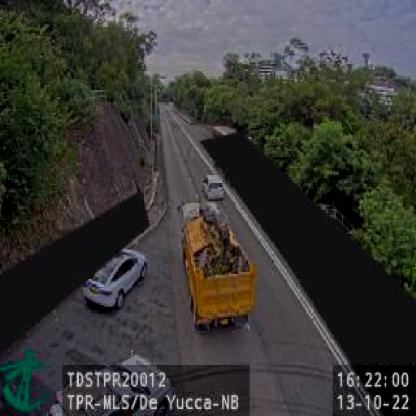Car: (83, 246, 148, 309), (202, 172, 226, 198)
Truck: (176, 200, 256, 333)
